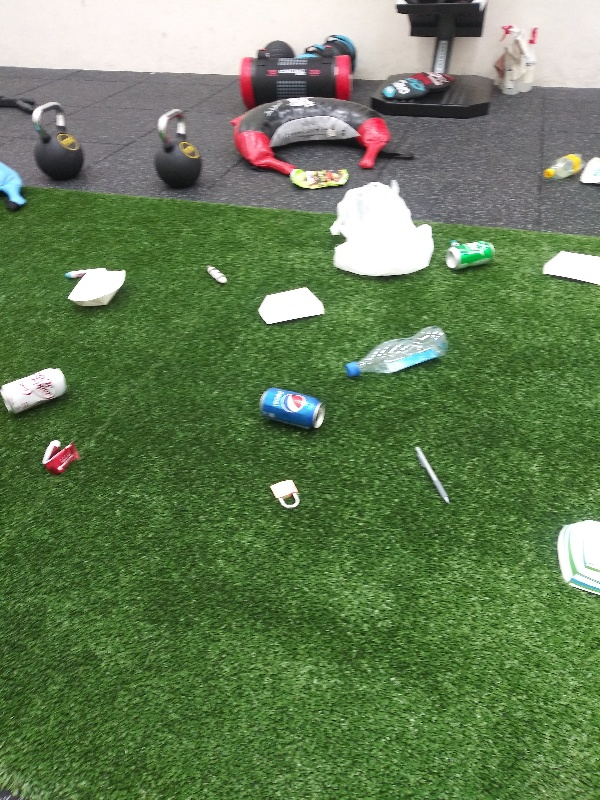bag: (286, 164, 351, 192), (579, 155, 600, 188)
bottle: (343, 323, 450, 381), (539, 148, 592, 181)
can: (2, 360, 69, 423), (256, 386, 329, 436), (443, 236, 499, 273)
plate: (548, 517, 600, 604), (256, 284, 329, 330), (62, 267, 132, 312), (537, 245, 600, 290)
